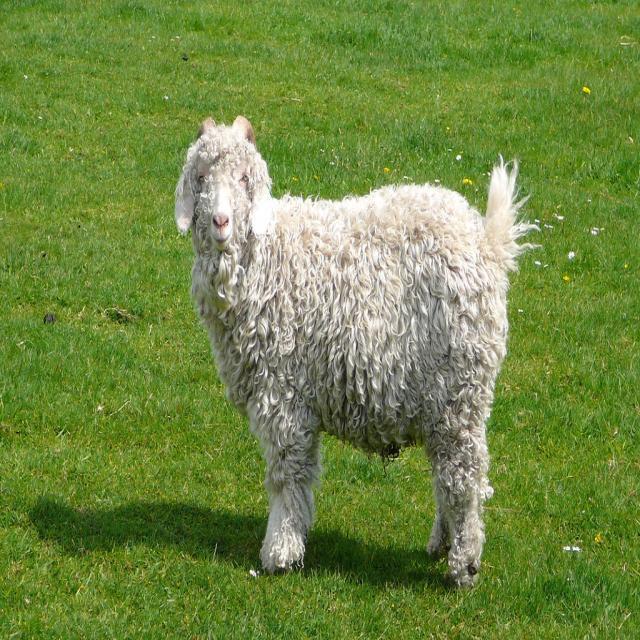Sheep: (172, 115, 543, 588)
